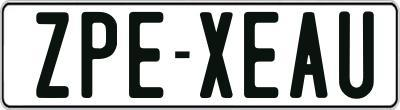A: (287, 10, 325, 101)
E: (241, 11, 276, 102), (129, 10, 164, 97)
P: (79, 9, 120, 101)
U: (337, 9, 375, 101)
X: (199, 11, 235, 98)
Z: (34, 11, 68, 99)
